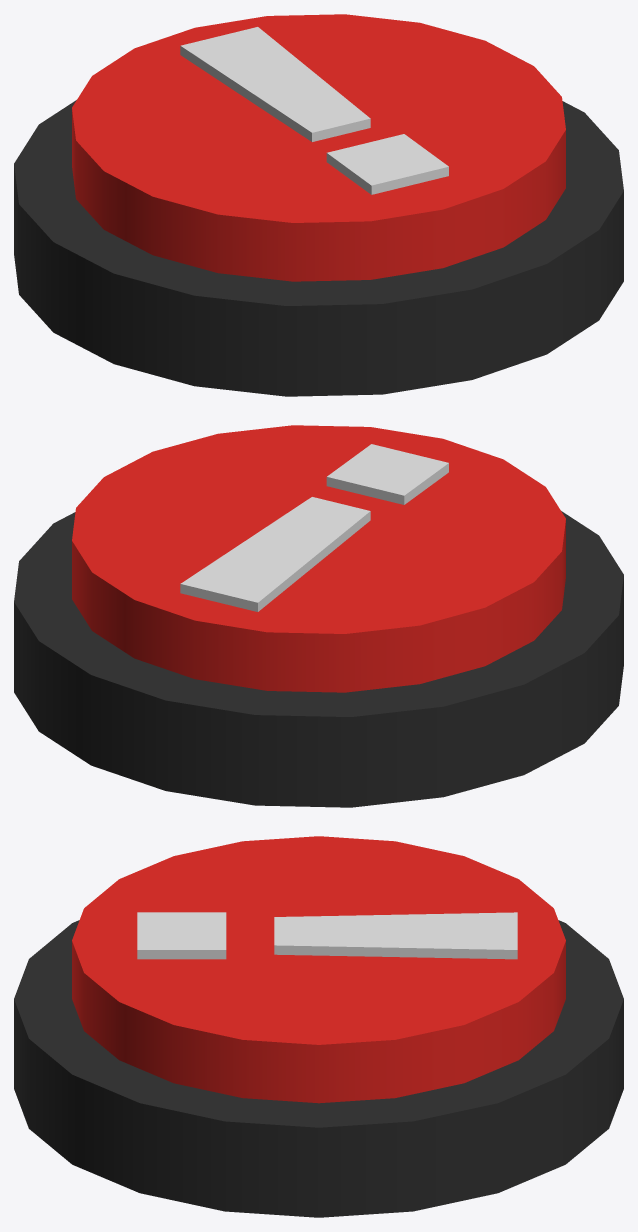
Rendered from Button_Warning.fbx.
3 views of the same model, one above another, from view 1: azimuth 30°, elevation 25°; view 2: azimuth 150°, elevation 25°; view 3: azimuth 270°, elevation 25° (orthographic).
Visible parts, largest first — view 1: Cylinder.001, Cylinder; view 2: Cylinder.001, Cylinder; view 3: Cylinder.001, Cylinder.
Boxes of the visible parts, x1=… form: Cylinder.001: x1=72, y1=14, x2=565, y2=281; Cylinder: x1=14, y1=100, x2=623, y2=396; Cylinder.001: x1=72, y1=425, x2=565, y2=692; Cylinder: x1=14, y1=511, x2=623, y2=807; Cylinder.001: x1=72, y1=836, x2=565, y2=1103; Cylinder: x1=14, y1=920, x2=623, y2=1217.
Size of the model in its own units: 178 by 50.77 by 178.
